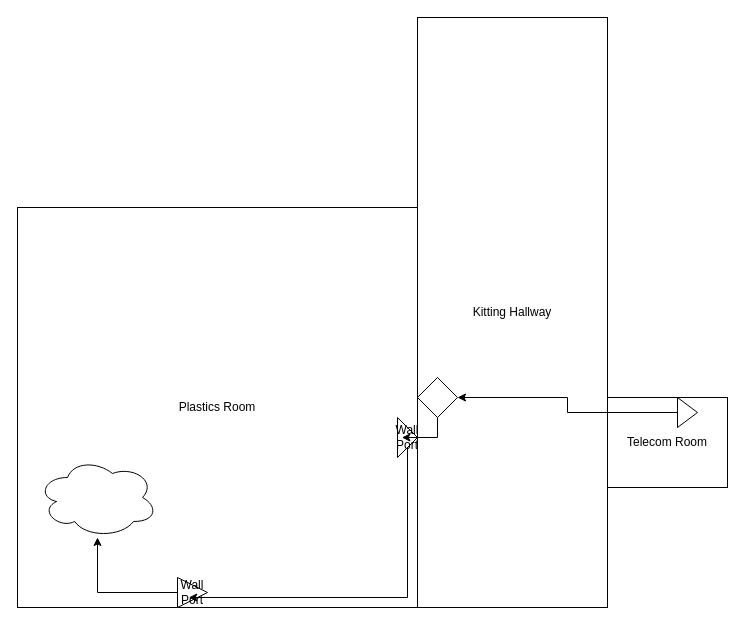
The diagram is 745 pixels wide and 625 high, and some of its shapes have lost their labels. Here are the shapes that lost their labels. From the top down, the centre of each, then its label:
At point (437, 397): "Plastics Switch".
At point (97, 497): "Router".
